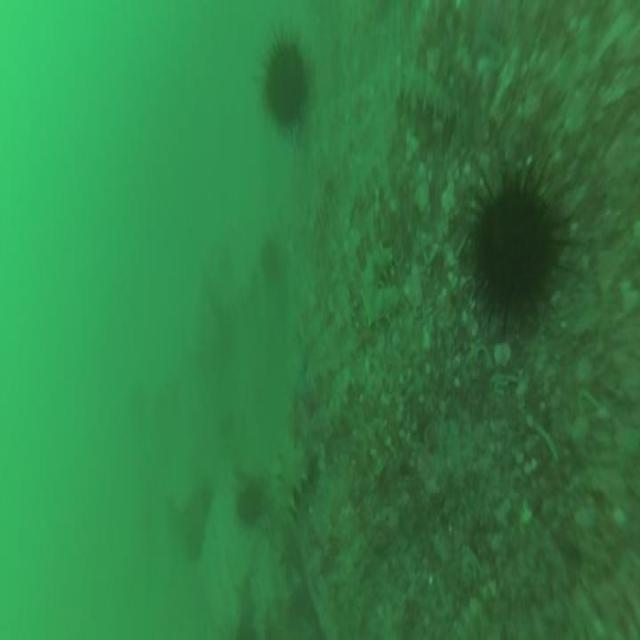echinus: (465, 156, 558, 342), (248, 14, 325, 155), (235, 472, 264, 528)
holothurian: (382, 57, 459, 128), (265, 426, 311, 522), (358, 240, 403, 329)
